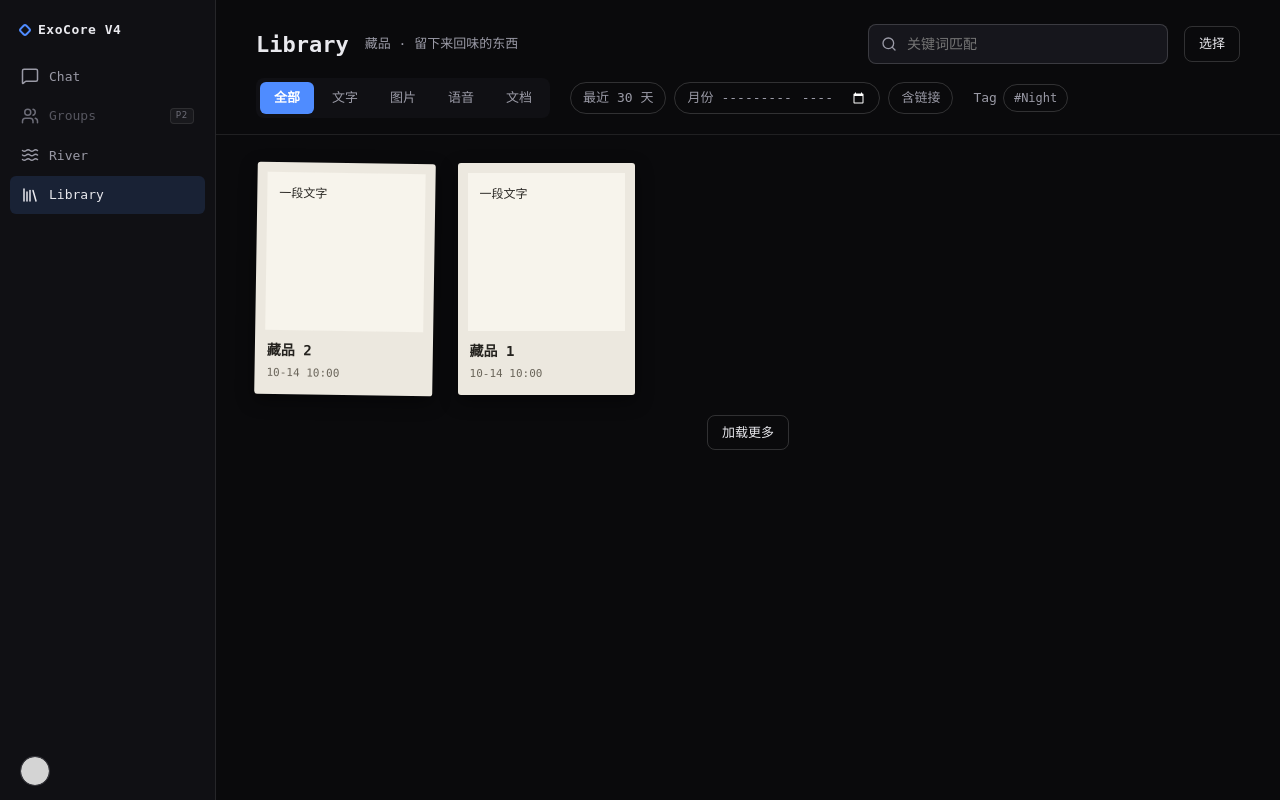
Scenario: Library wall traversal and states (UI-A2 / UI-B1) › pages with the cursor, keeps cards on continuation failure, and retries
Expected: the link "藏品 2" is shown, top-left (267, 341), bottom-right (312, 358)
Click the button "加载更多" at (748, 432), box top-left (707, 415), bottom-right (789, 450)
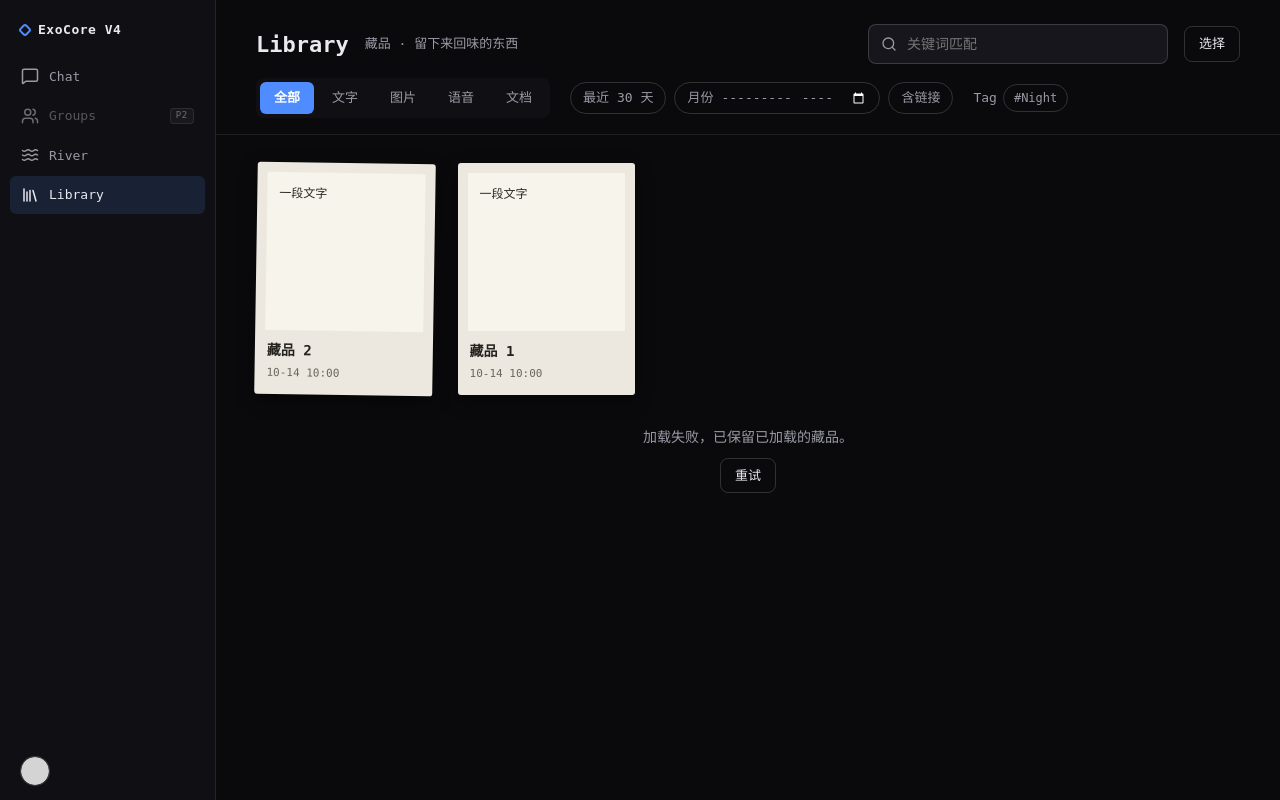
Expected: the link "藏品 1" is shown, top-left (470, 343), bottom-right (514, 359)
Now the text "加载失败，已保留已加载的藏品。" is shown, box top-left (643, 427), bottom-right (853, 448)
Click the button "重试" at (748, 475), box top-left (720, 458), bottom-right (776, 493)
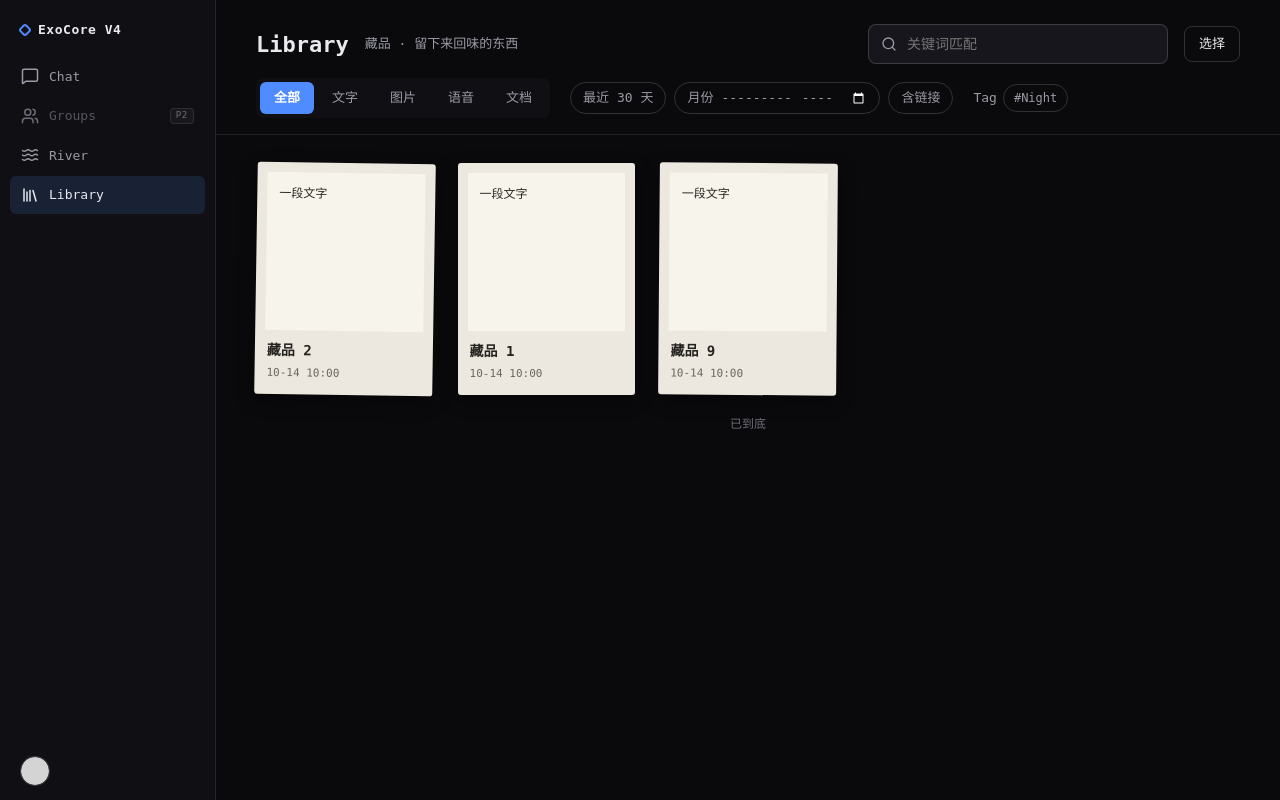
Now the link "藏品 9" is shown, box top-left (671, 342), bottom-right (716, 358)
Now the text "已到底" is shown, box top-left (730, 417), bottom-right (766, 431)
Now the links "藏品" read "藏品 2", "藏品 1", "藏品 9", in this order, box top-left (267, 341), bottom-right (312, 358); top-left (470, 343), bottom-right (514, 359); top-left (671, 342), bottom-right (716, 358)
